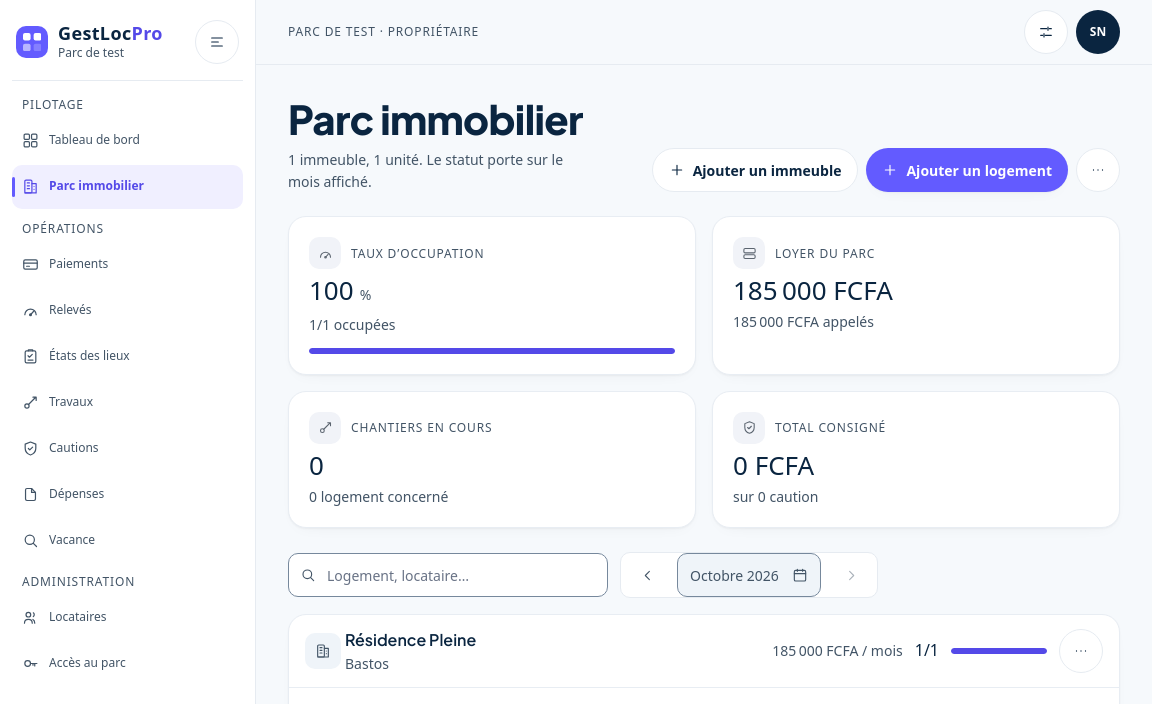
le mois affiché du parc › relit le parc au mois précédent, et le montre
Click the button named "Mois précédent": (647, 575) 625,553 -> 669,597
(page scrolled)
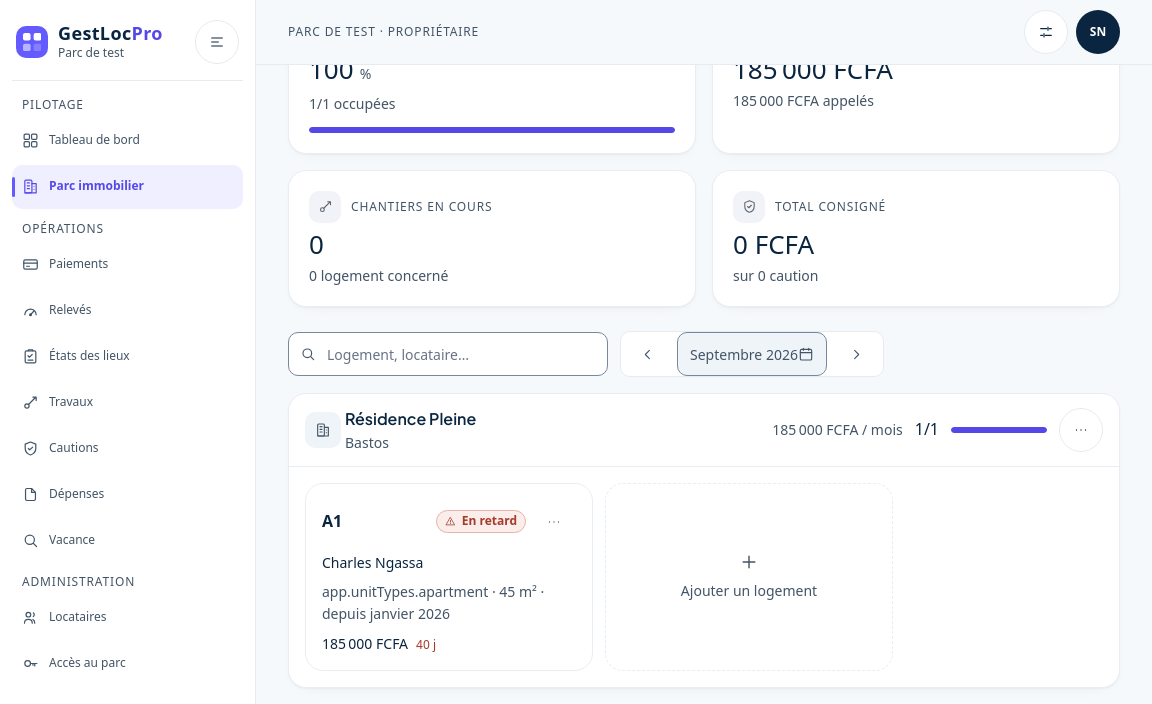
Expected: the text "En retard" is shown, 436,510 -> 526,533
